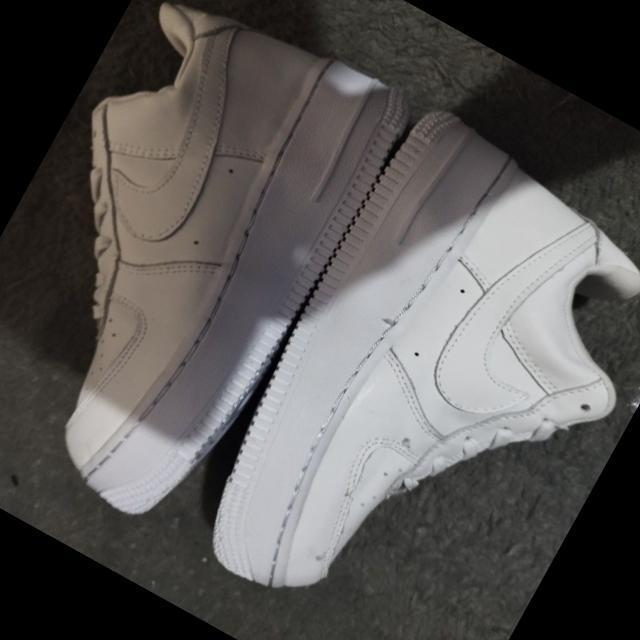nike fake air force: (170, 90, 640, 640), (0, 0, 427, 545)
